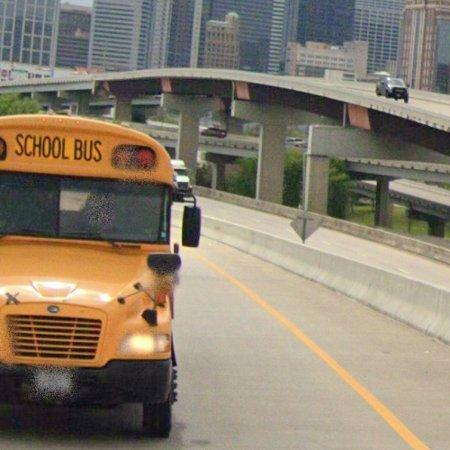buses: (0, 115, 181, 438)
